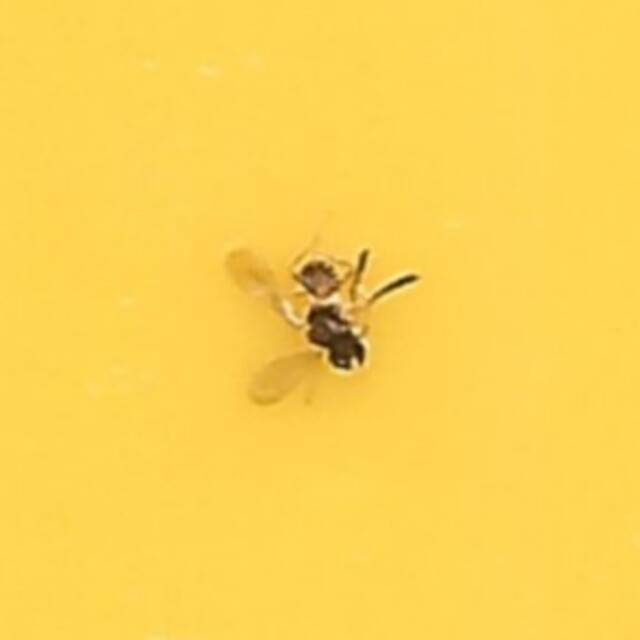Hymenoptera: (221, 224, 419, 416)
